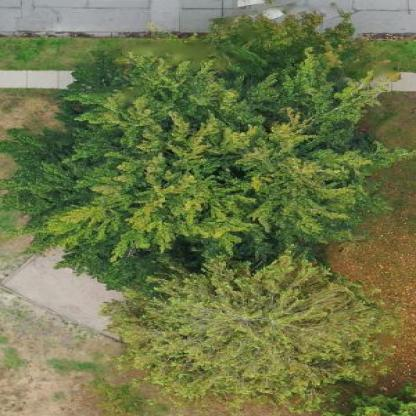Coniferous Tree: (6, 13, 384, 265), (117, 247, 378, 398)
